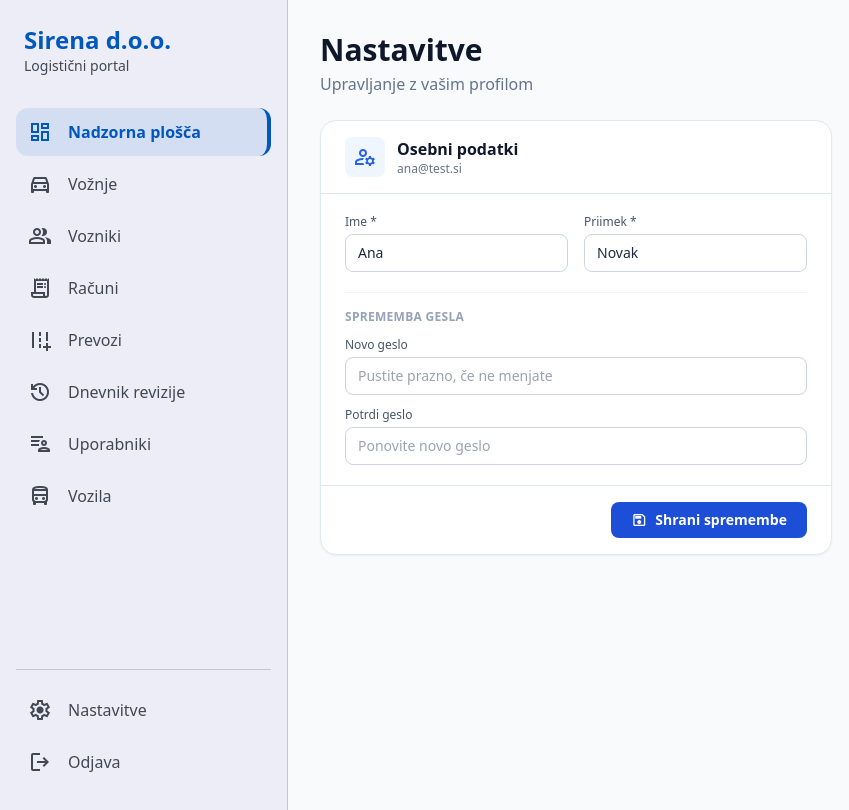
Test: Nastavitve – validacija obrazca › prikaže napako ko gesli se ne ujemata
Expected: the field showing "Ana" below "Ime *" is shown, [345,234,568,272]
Type "novoGeslo123" into the password field with placeholder "Pustite prazno, če ne menjate". click: (576, 376)
box: [345,357,807,395]
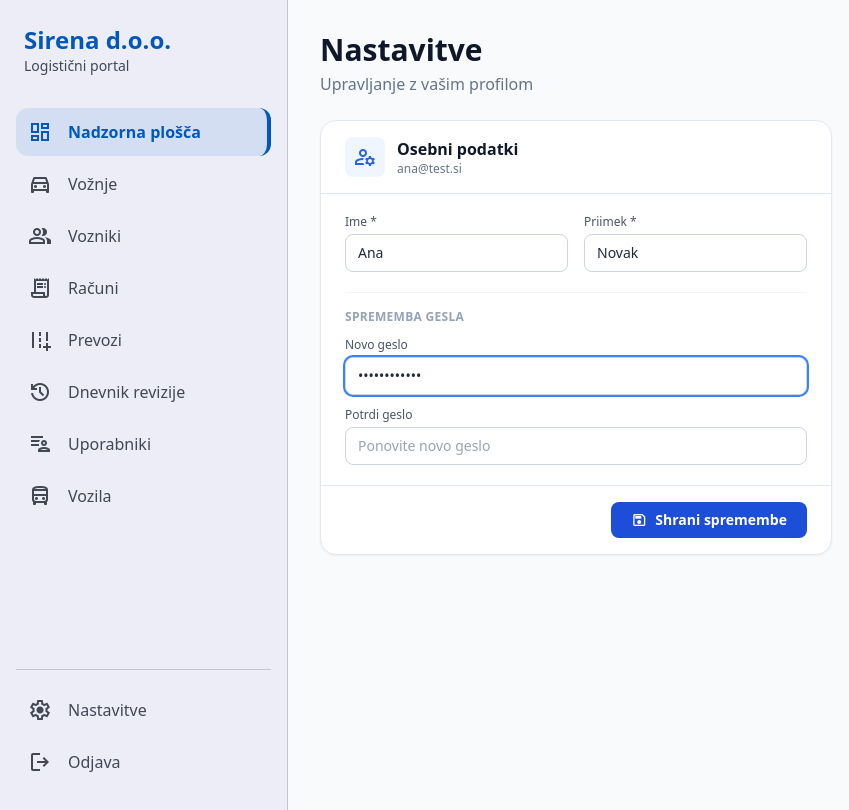
Type "drugoGeslo123" into the password field with placeholder "Ponovite novo geslo". click: (576, 446)
box: [345,427,807,465]
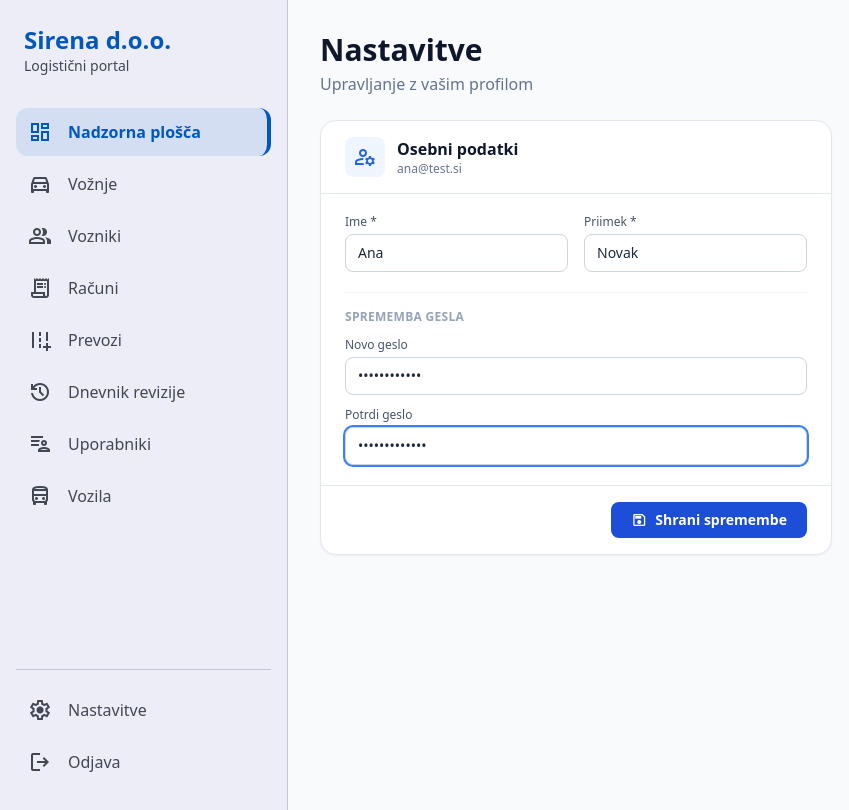
Click the button "Shrani spremembe". click: (709, 520)
box: [611,502,807,538]
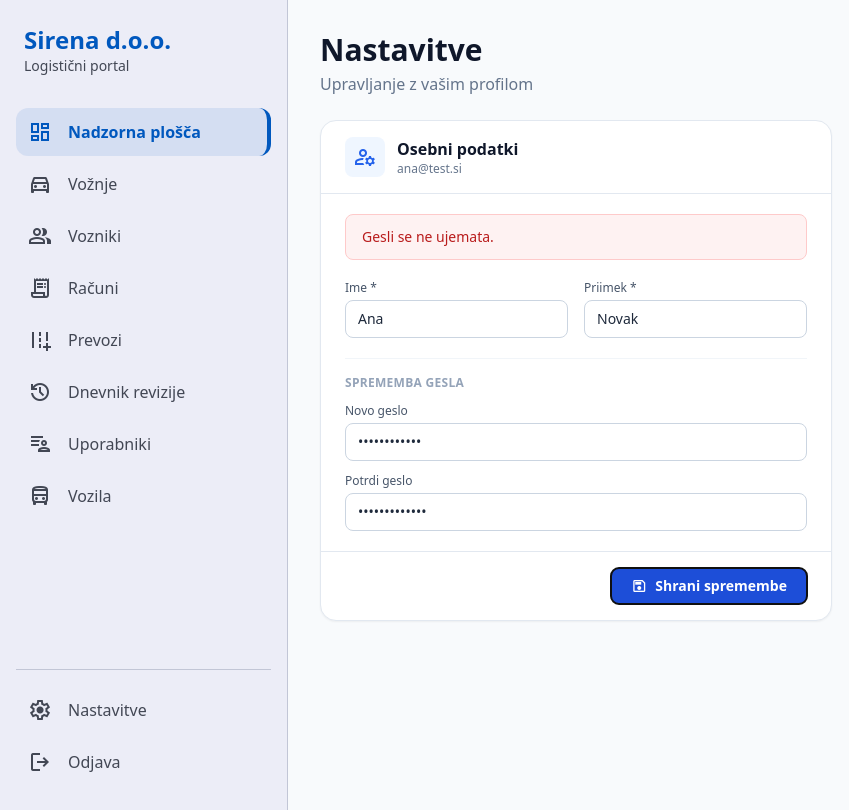
Now the text "Gesli se ne ujemata." is shown, box [345,214,807,260]
